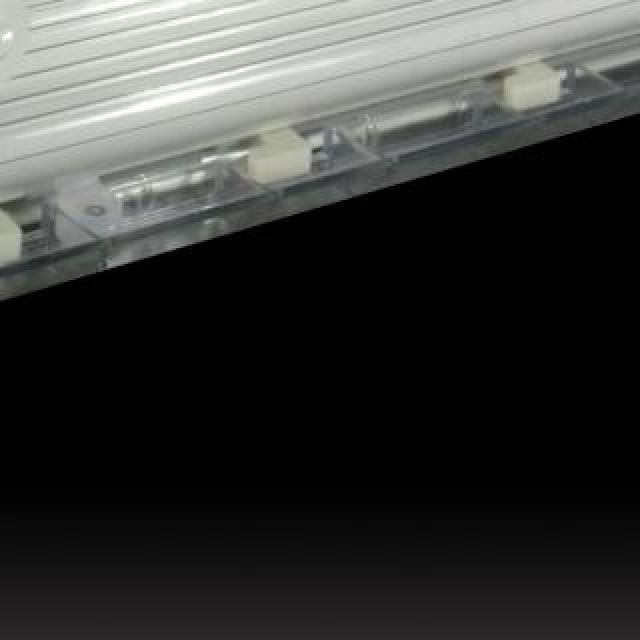fluorescent tube: (0, 0, 640, 270)
